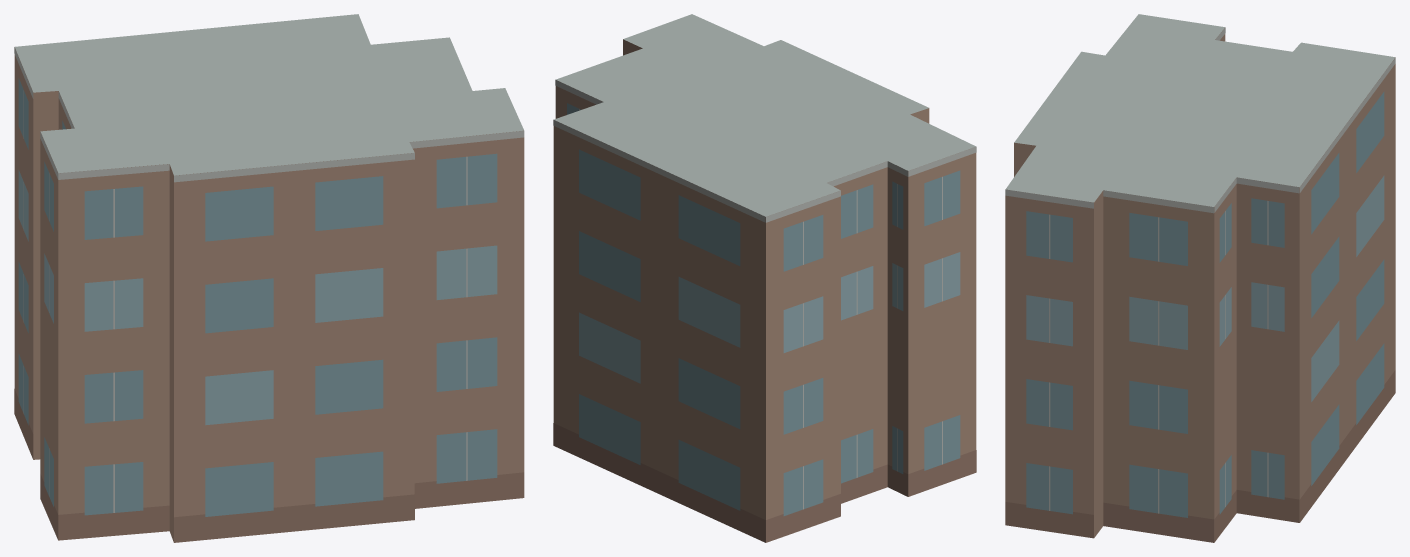
The model's file is survey-upis-32973866.glb.
3 renders of one model, left to right at view 1: azimuth 30°, elevation 25°; view 2: azimuth 150°, elevation 25°; view 3: azimuth 270°, elevation 25°, orthographic. The views are drawn at different scales.
Parts seen in each view (by area): view 1: survey-upis-32973866.tmp; view 2: survey-upis-32973866.tmp; view 3: survey-upis-32973866.tmp.
Part boxes in pixels (x1,y1,x2,y2): survey-upis-32973866.tmp: (14, 14, 524, 542); survey-upis-32973866.tmp: (553, 14, 976, 542); survey-upis-32973866.tmp: (1005, 14, 1395, 542).
Size of the model in its own units: 16.29 by 13.2 by 13.91.
